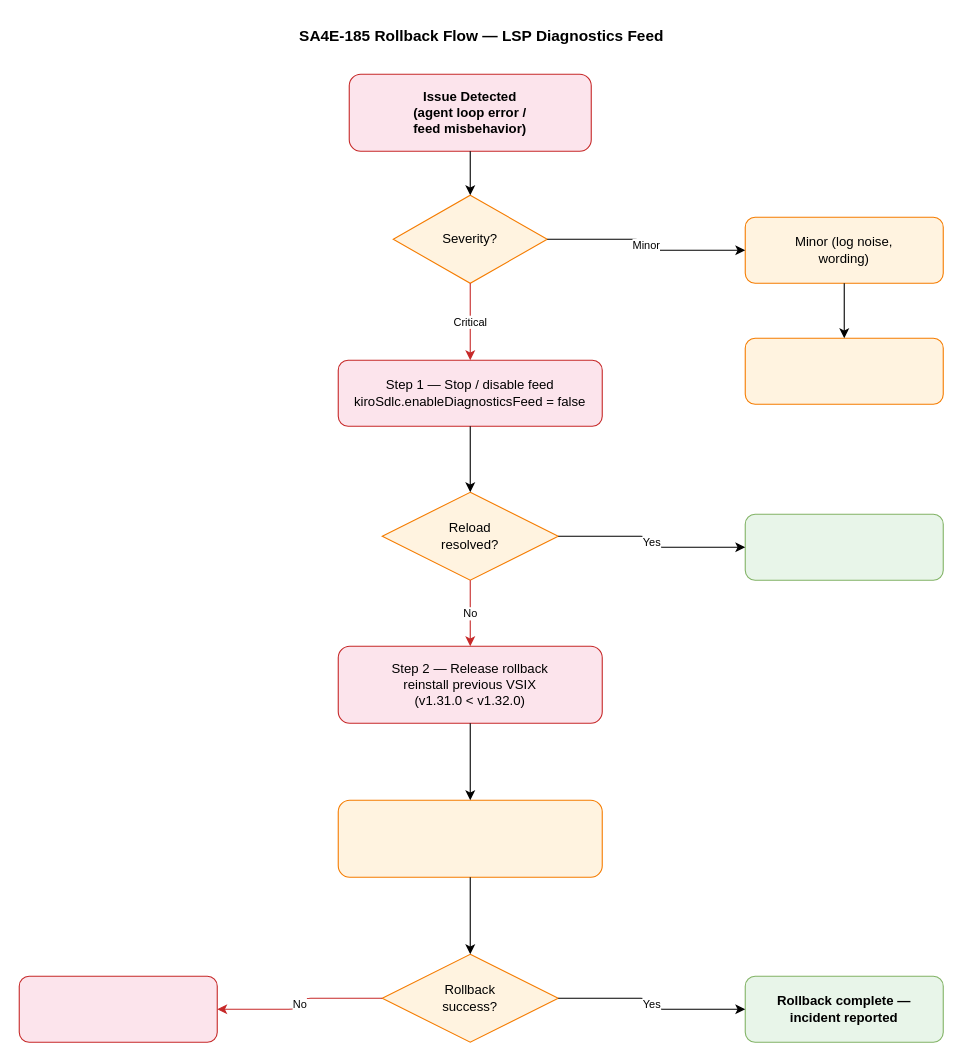
Some shapes in this 963 by 1062 pixel diagram are drawn without their labels. The shapes that lost their labels are listed below. From the top down, each one's box as (x1, y1, x2, y2) in pixels, then its label:
(744, 337, 943, 404): Hotfix — next PATCH, no immediate action
(744, 513, 943, 580): Keep disabled — feature flag off (BR-9/10)
(337, 799, 602, 877): Verify rollback (health check + smoke test + no [DD-FEED] errors)
(18, 975, 217, 1042): Escalate — Dev/QA investigation
